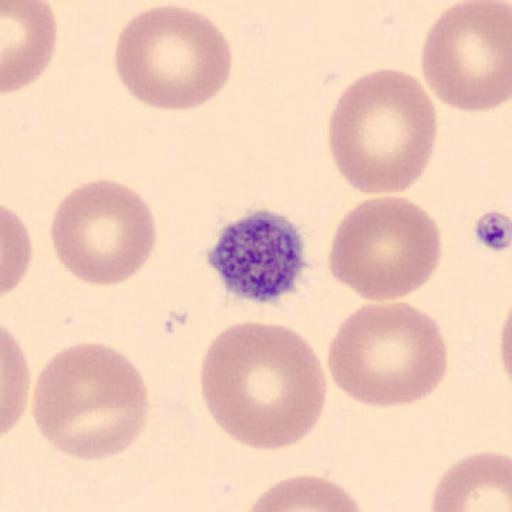Platelet: (204, 207, 314, 305)
RBC: (198, 320, 328, 450), (327, 66, 440, 198), (31, 341, 151, 462), (326, 300, 451, 410), (112, 4, 235, 112), (327, 194, 442, 302), (48, 176, 158, 288), (419, 0, 512, 113), (2, 0, 58, 96), (429, 450, 512, 512), (238, 474, 366, 512), (0, 326, 30, 440), (2, 204, 34, 297), (499, 302, 512, 385)
